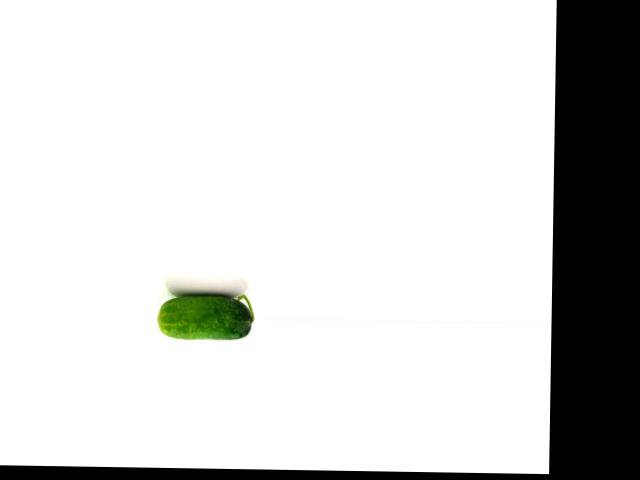cucumber: (155, 292, 253, 340)
